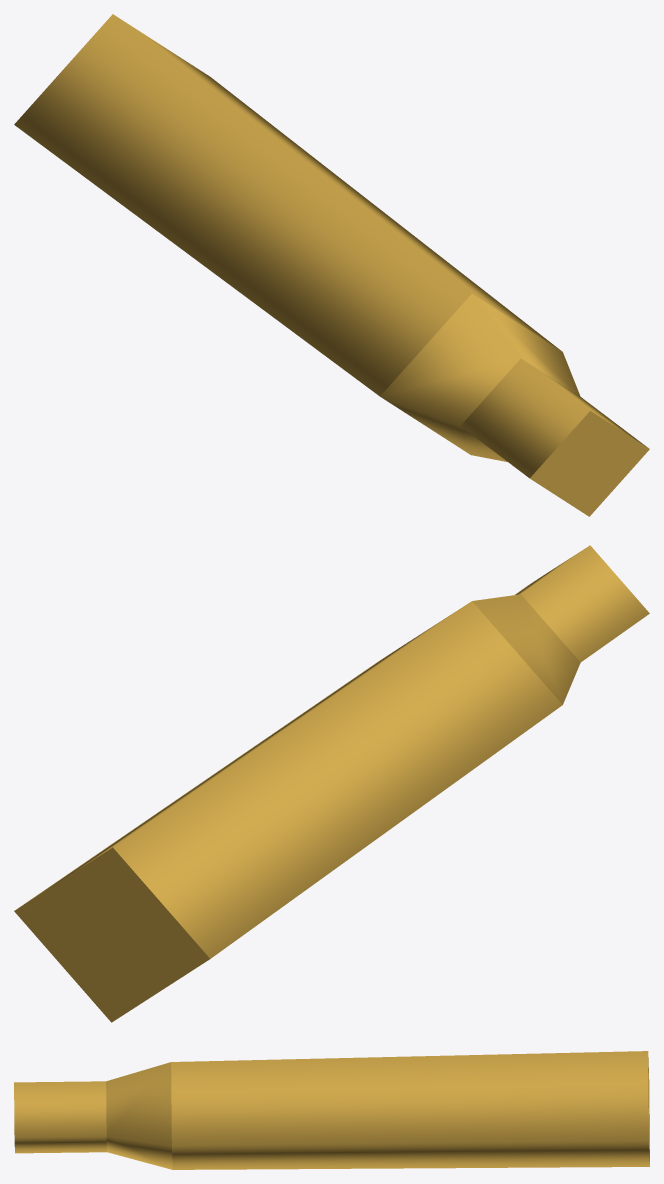
The model's file is FxEmpty762.FBX.
The picture shows the model from 3 angles, top to bottom: view 1: azimuth 30°, elevation 25°; view 2: azimuth 150°, elevation 25°; view 3: azimuth 270°, elevation 25°; orthographic projection. The views are drawn at different scales.
Visible parts, largest first — view 1: FxEmpty762; view 2: FxEmpty762; view 3: FxEmpty762.
Boxes of the visible parts, x1,y1,x2,y2 form: FxEmpty762: [14, 14, 649, 516]; FxEmpty762: [14, 545, 649, 1022]; FxEmpty762: [14, 1051, 649, 1169].
Bounding box in the file's own units: 1.73 × 1.5 × 7.29.
